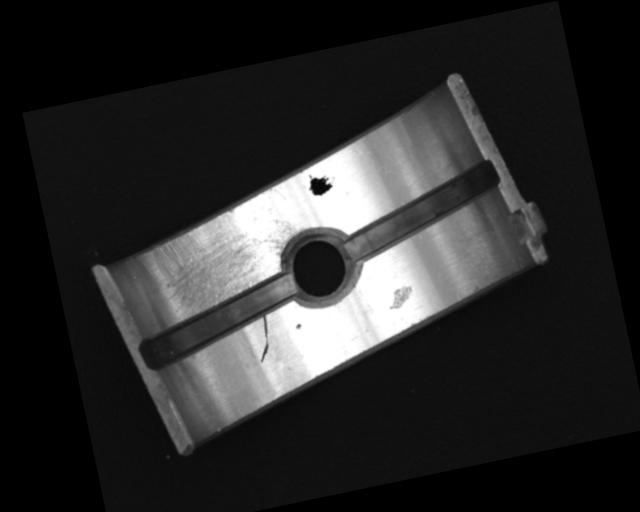blot: (305, 169, 338, 198)
bruise: (385, 283, 415, 310), (295, 322, 302, 331)
gap: (333, 159, 509, 264), (129, 270, 308, 373)
hole: (276, 222, 364, 312)
nick: (251, 314, 276, 364)
scratch: (128, 186, 316, 327)
